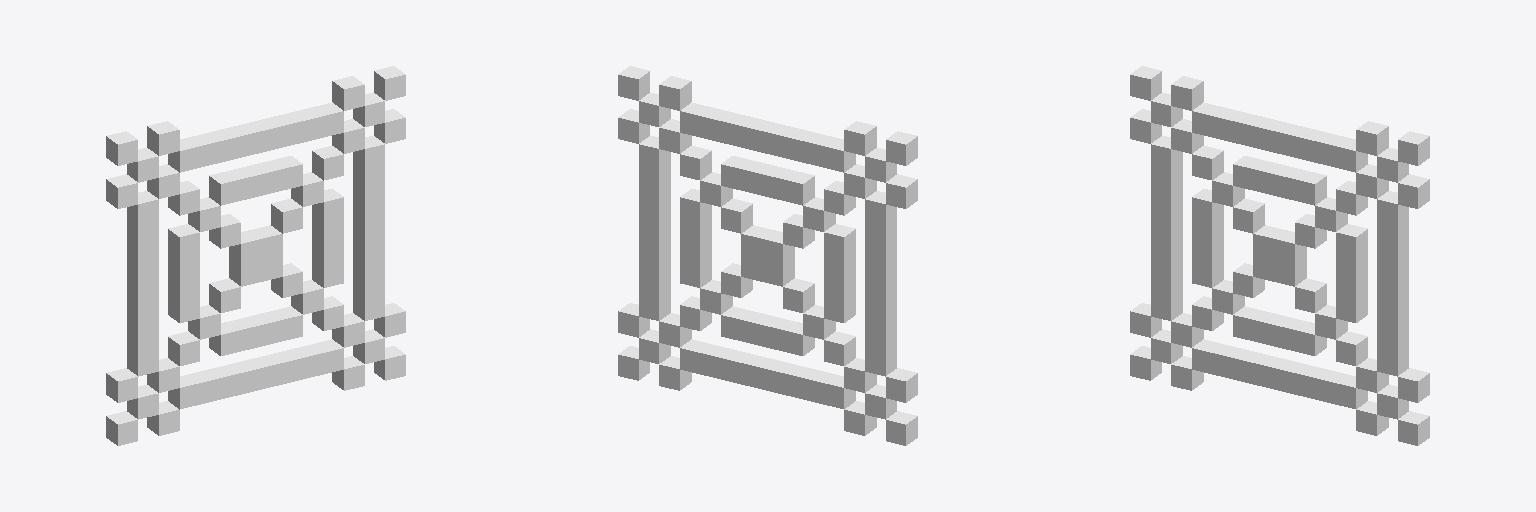
Rendered from teia-1.obj.
3 views of the same model, side by side, from view 1: azimuth 30°, elevation 25°; view 2: azimuth 150°, elevation 25°; view 3: azimuth 330°, elevation 25° (orthographic).
Visible parts, largest first — view 1: object 1; view 2: object 1; view 3: object 1.
Part boxes in pixels (bbox=[...]): object 1: bbox=[106, 66, 405, 445]; object 1: bbox=[618, 66, 917, 445]; object 1: bbox=[1130, 66, 1429, 445].
Size of the model in its own units: 2.8 by 2.8 by 0.2.